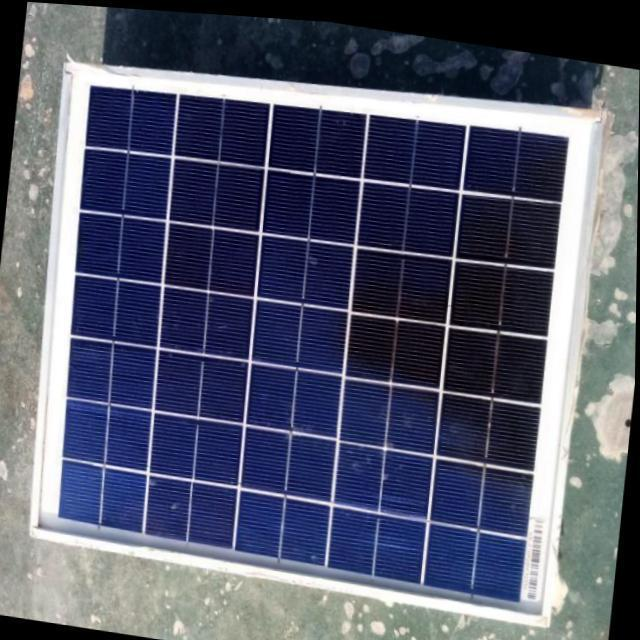Normal Solar Panel: (21, 26, 603, 616)
